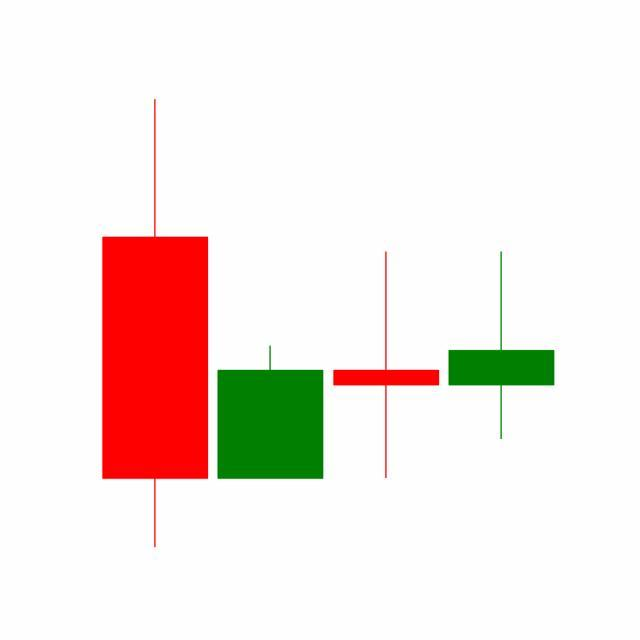Spinning Top: (329, 249, 445, 482)
